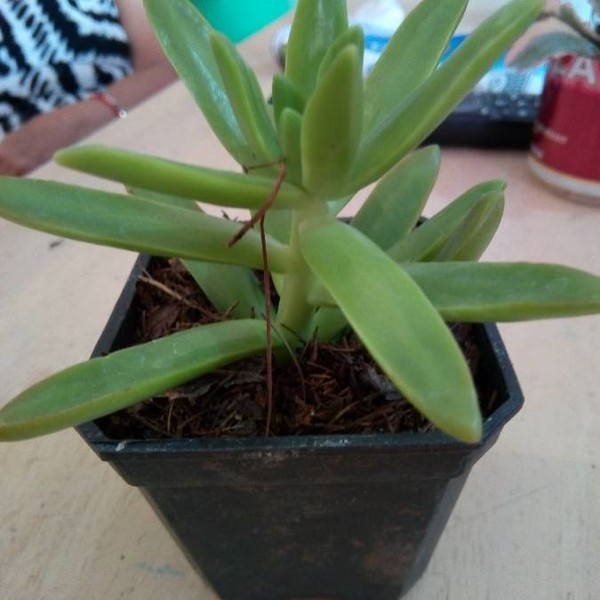obstacle: (26, 16, 543, 570)
